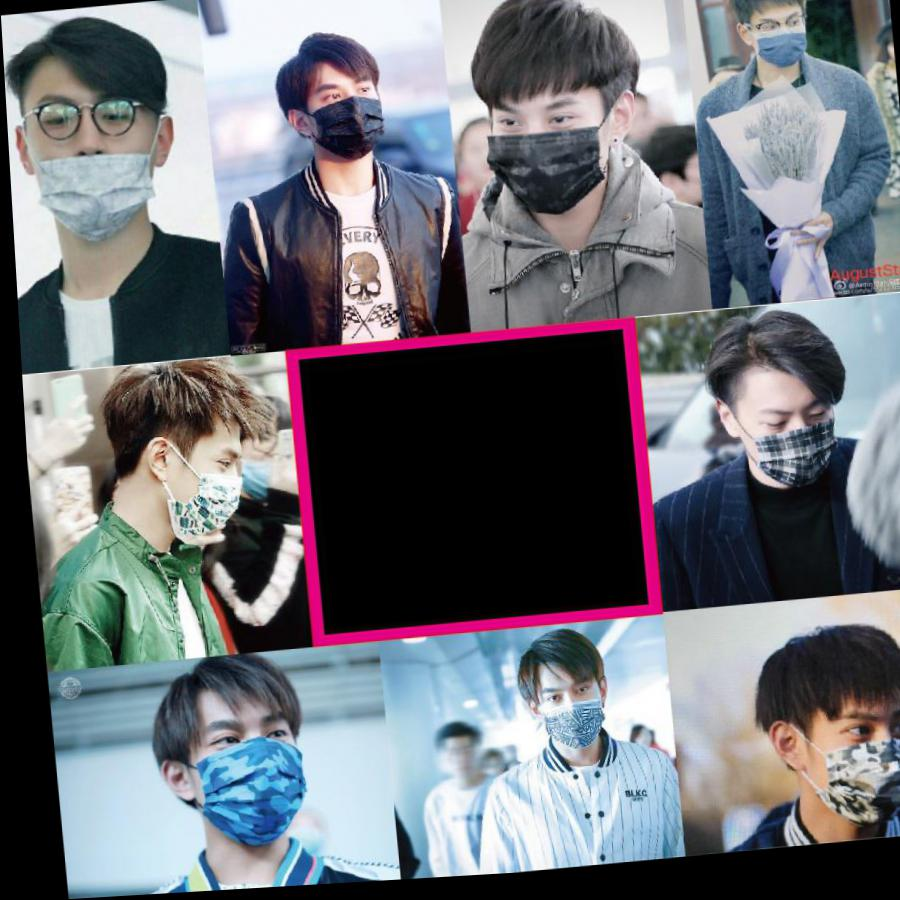OK: (171, 700, 326, 855), (482, 88, 613, 219), (793, 707, 900, 840), (147, 433, 262, 548), (726, 394, 834, 502), (299, 68, 396, 164), (520, 677, 600, 756), (750, 18, 812, 80)
WRONG: (13, 75, 173, 235), (232, 422, 298, 502)
